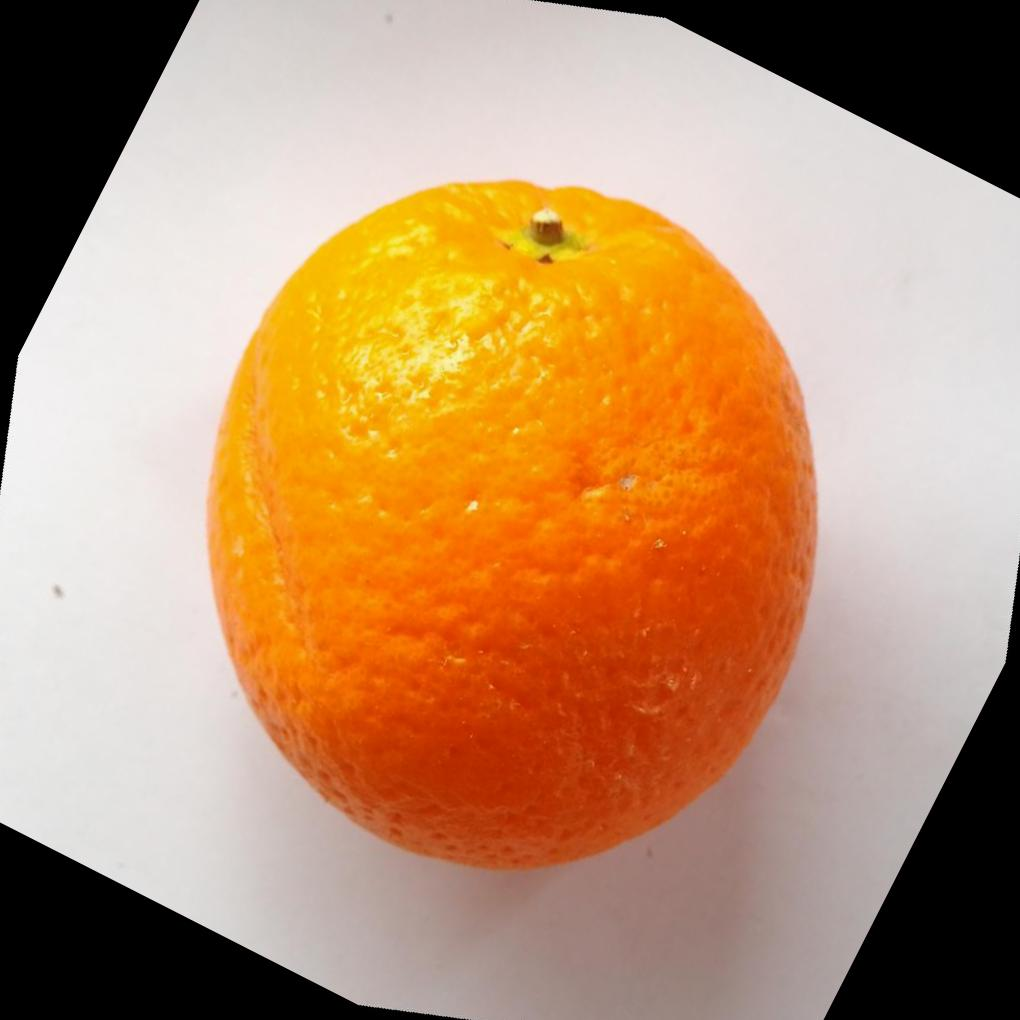FreshGuava: (205, 173, 822, 871)
